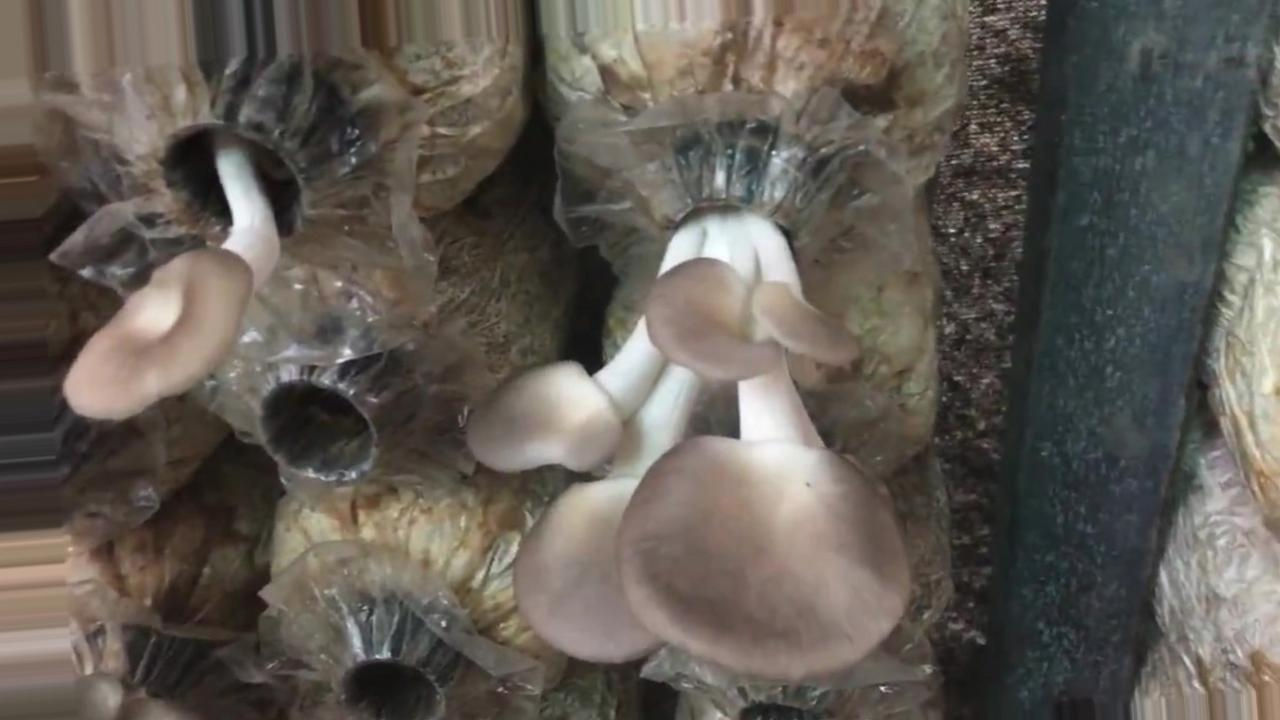nam: (467, 155, 907, 671), (66, 84, 338, 421)
